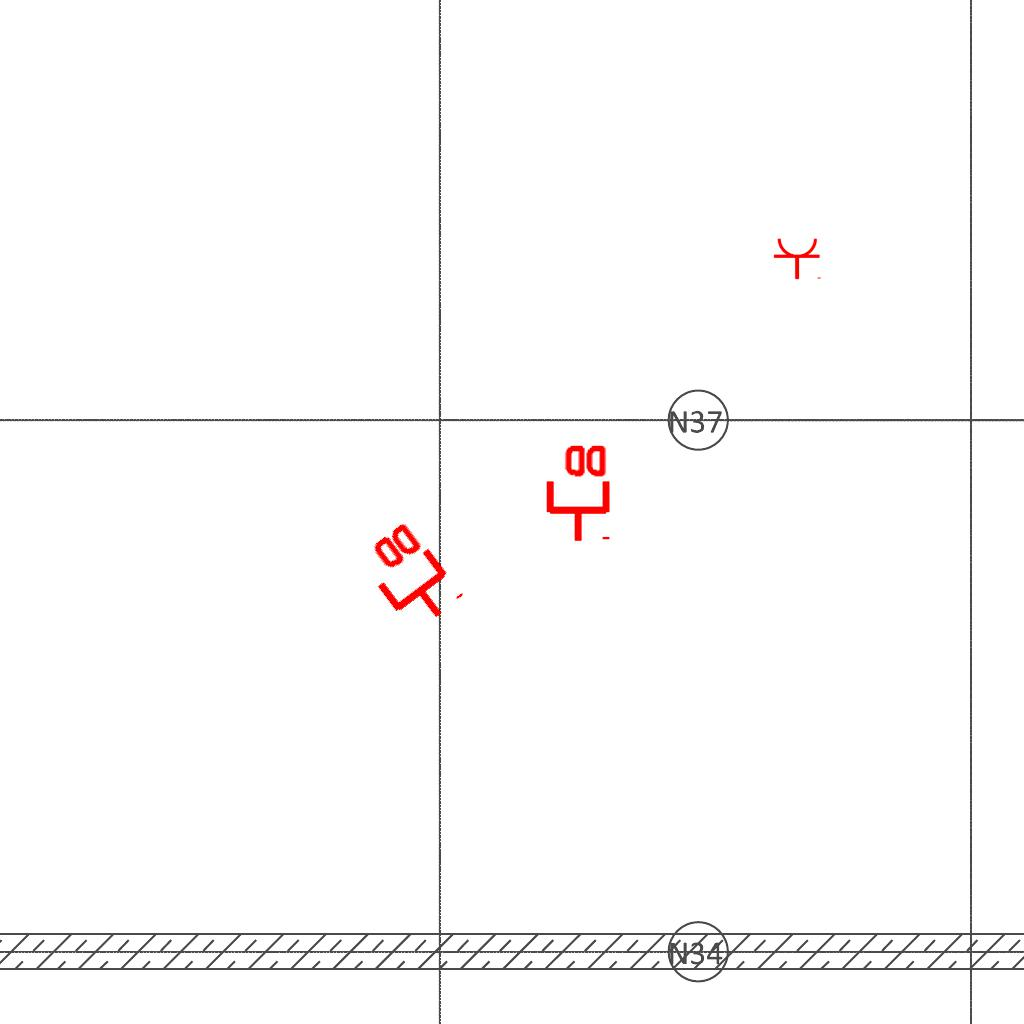Datenanschluss_zweifach: (349, 515, 468, 640), (542, 441, 611, 544)
Schukosteckdose_einfach: (773, 237, 823, 280)
